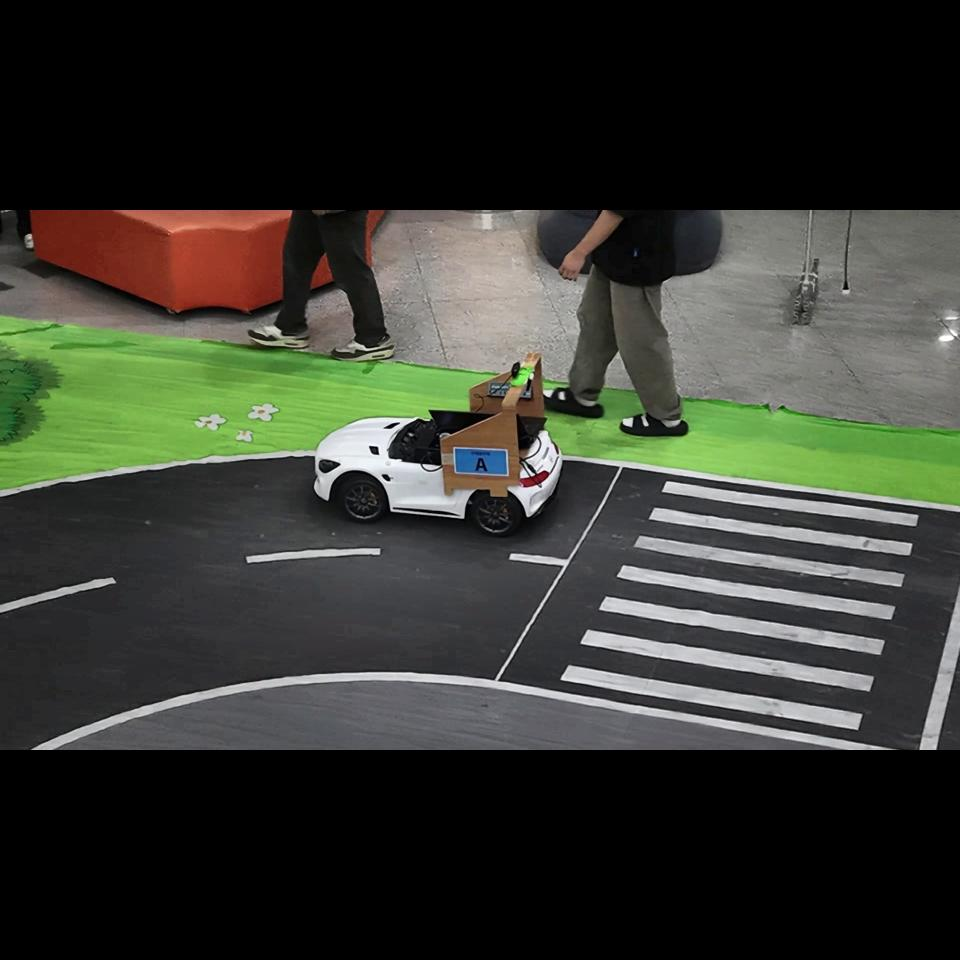broken_line: (0, 577, 116, 613), (245, 548, 381, 563), (508, 553, 567, 566)
crosswalk: (560, 481, 919, 731)
